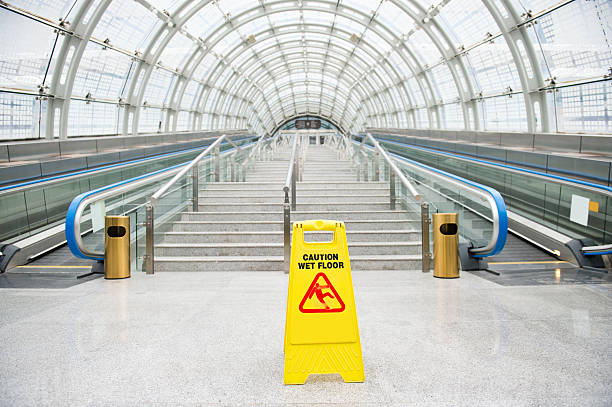wet caution sign: (253, 194, 395, 391)
